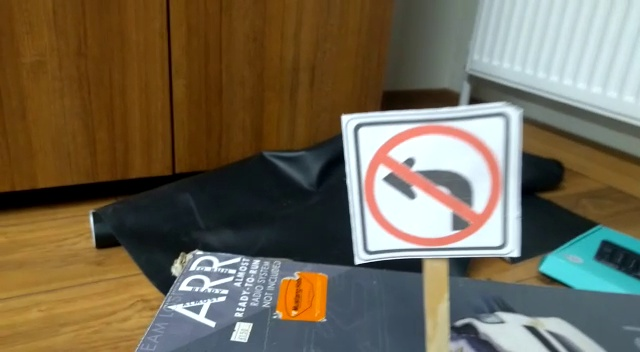sola_donulmez: (360, 116, 507, 255)
